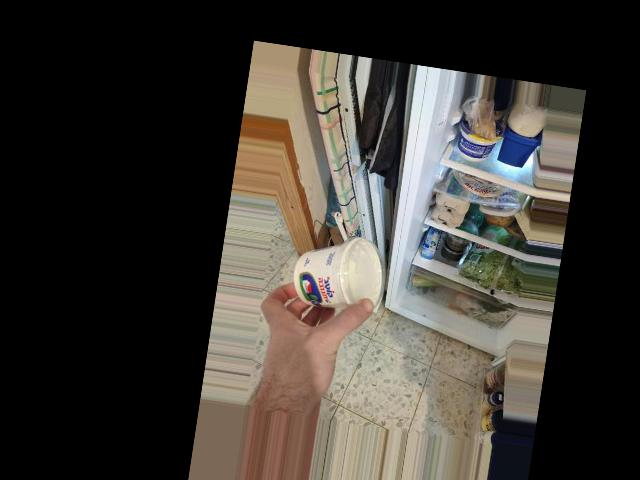cotage: (289, 227, 370, 320)
